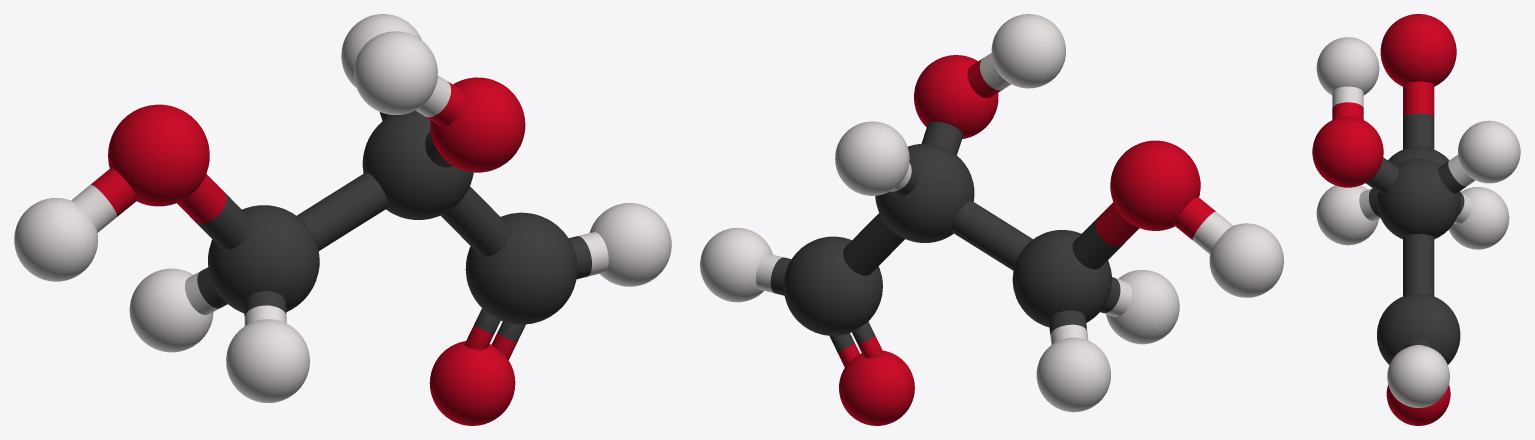
File: dgys.gltf
The picture shows the model from 3 angles, left to right: view 1: azimuth 30°, elevation 25°; view 2: azimuth 150°, elevation 25°; view 3: azimuth 270°, elevation 25°; orthographic projection. The views are drawn at different scales.
Parts seen in each view (by area): view 1: Sphere047; view 2: Sphere047; view 3: Sphere047.
Part boxes in pixels (x1,y1,x2,y2): Sphere047: (14,14,671,425); Sphere047: (700,14,1283,425); Sphere047: (1312,14,1520,425).
Size of the model in its own units: 53.34 by 35.61 by 19.89.
3 materials, 3 textured.
